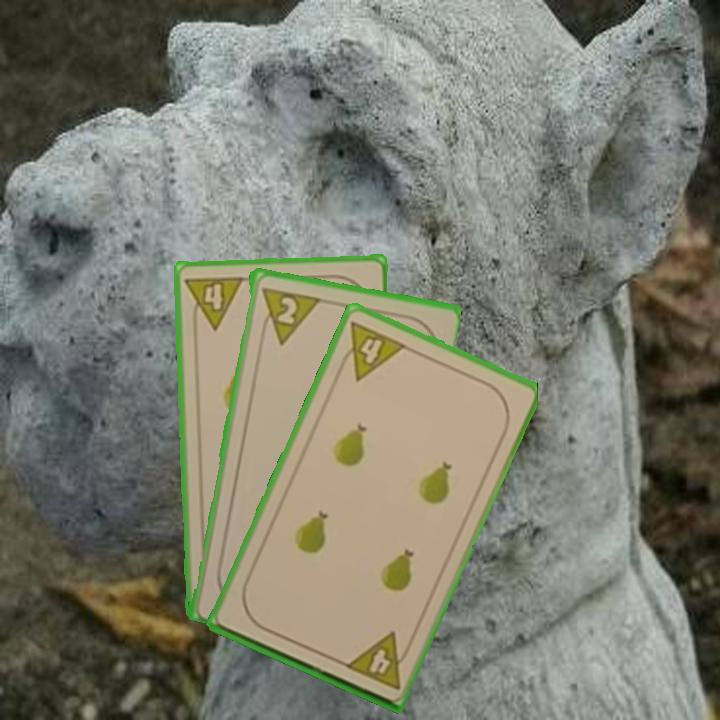2p: (257, 283, 320, 347)
4p: (333, 317, 409, 384), (341, 628, 415, 692), (182, 272, 247, 333)
